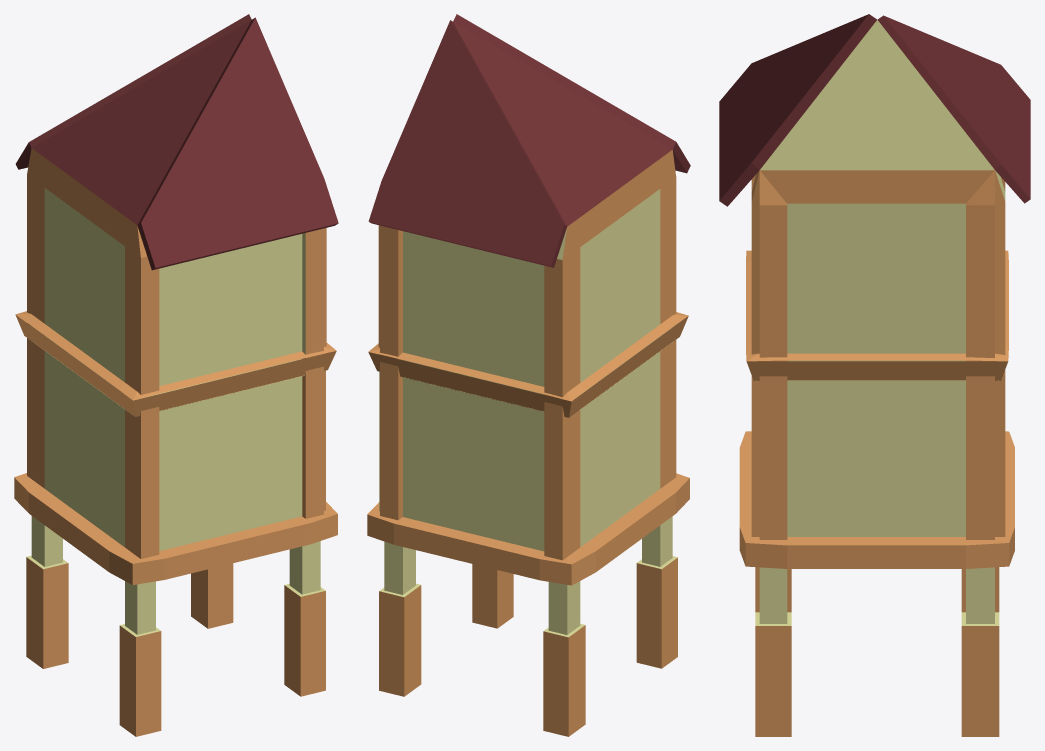
File: Bangunan Inti.fbx
3 renders of one model, left to right at view 1: azimuth 30°, elevation 25°; view 2: azimuth 150°, elevation 25°; view 3: azimuth 270°, elevation 25°, orthographic. The views are drawn at different scales.
Parts seen in each view (by area): view 1: Cube; view 2: Cube; view 3: Cube.
Boxes of the visible parts, box(x1,y1,x2,y2) form: Cube: box(14, 14, 338, 736); Cube: box(367, 14, 690, 736); Cube: box(719, 14, 1030, 736).
Size of the model in its own units: 7018 by 20041 by 7938.
